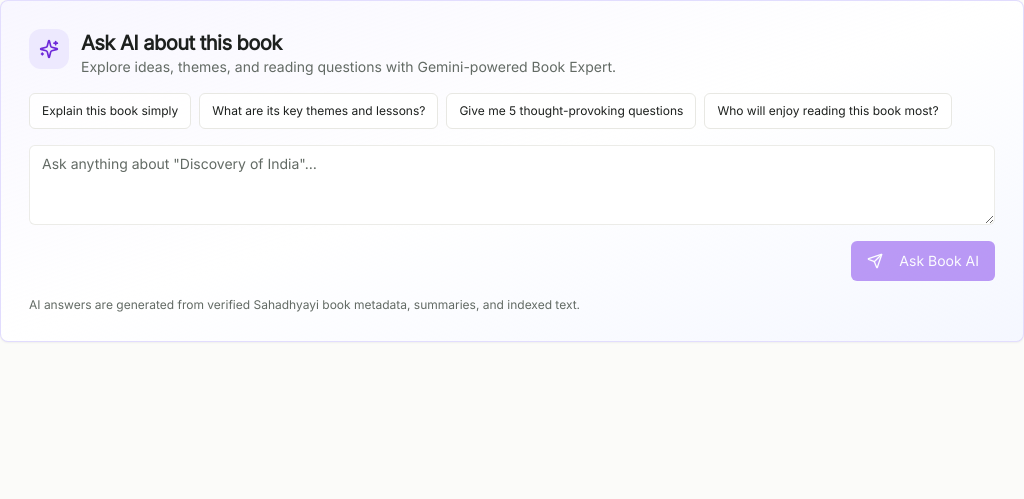
Test: BookAIReader Component › displays timeout message and offers Retry when 504 error occurs
The image size is (1024, 499).
Type "Explain key themes" into the text box with placeholder "Ask anything about \"Discovery of India\"…".
click(512, 185); type("Explain key themes")  # box x1=29 y1=145 x2=995 y2=225
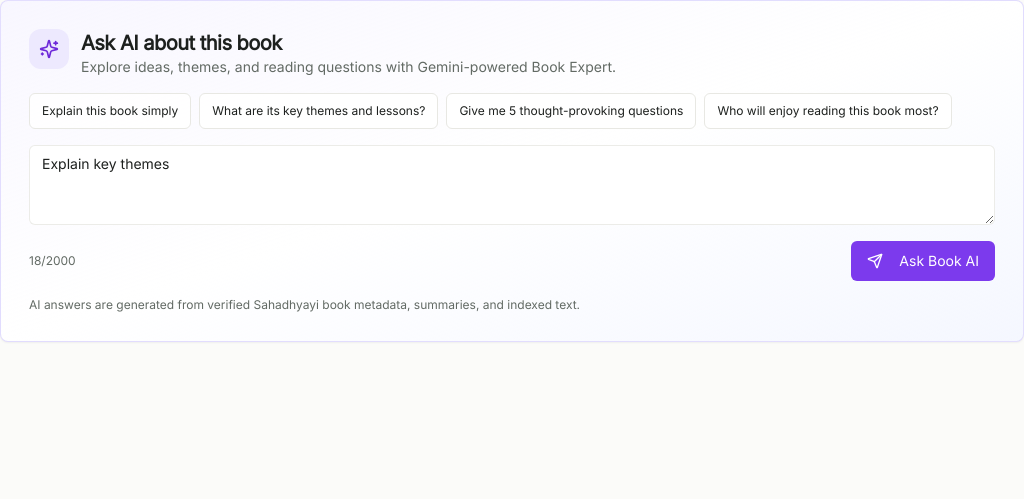
Click the button "Ask Book AI".
click(923, 261)  # box x1=851 y1=241 x2=995 y2=281
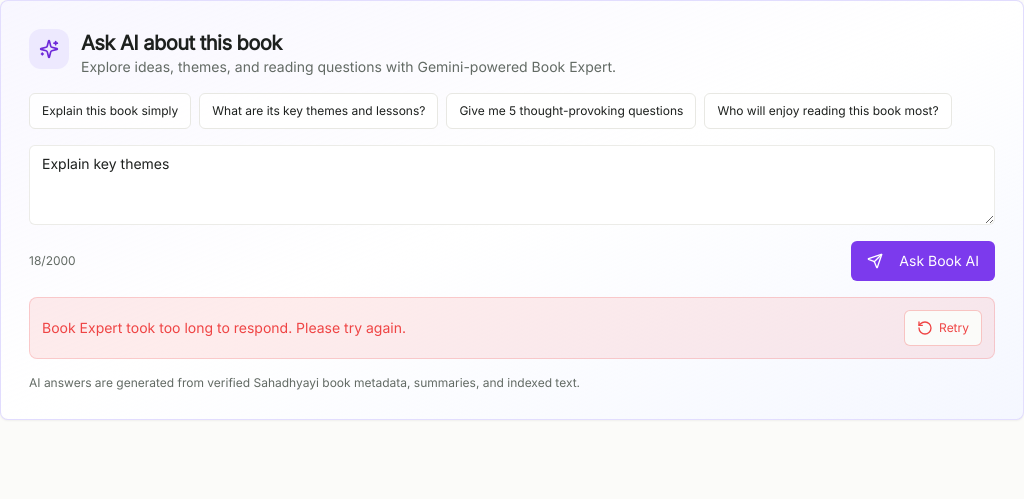
Now the message shows "Book Expert took too long to respond", box x1=42 y1=319 x2=406 y2=336
Now the button "Retry" is shown
Click the button "Retry".
click(943, 328)  # box x1=904 y1=310 x2=982 y2=346
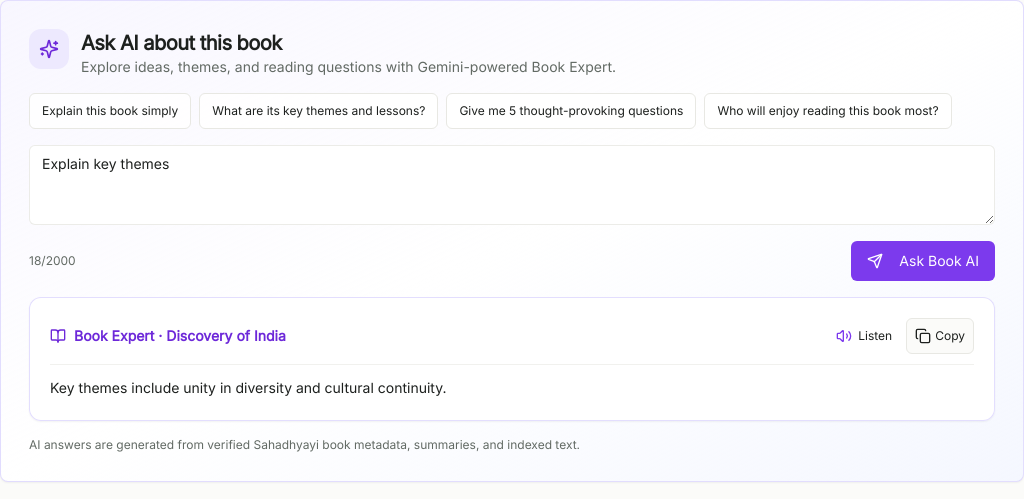
Now the text "unity in diversity" is shown, box x1=50 y1=379 x2=446 y2=396
Now the message "Book Expert took too long to respond. Please try again. Retry" is gone
